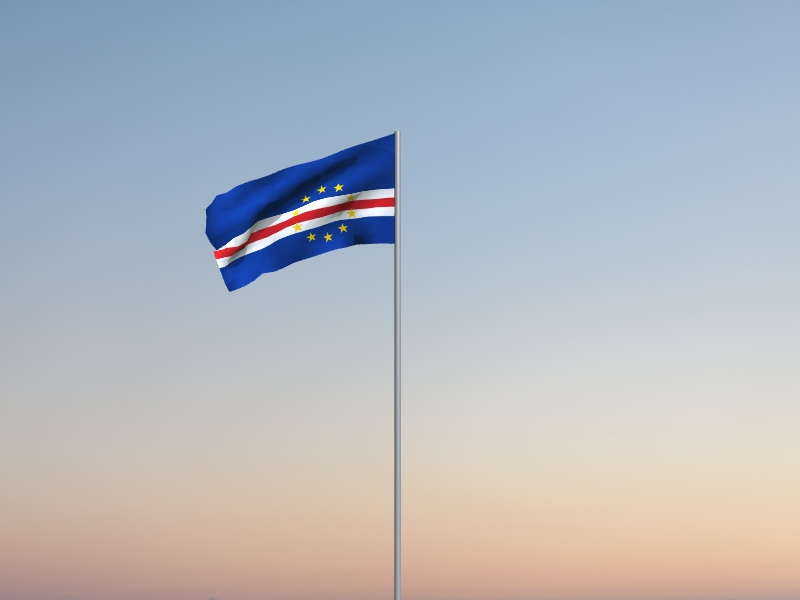cv: (205, 134, 395, 294)
